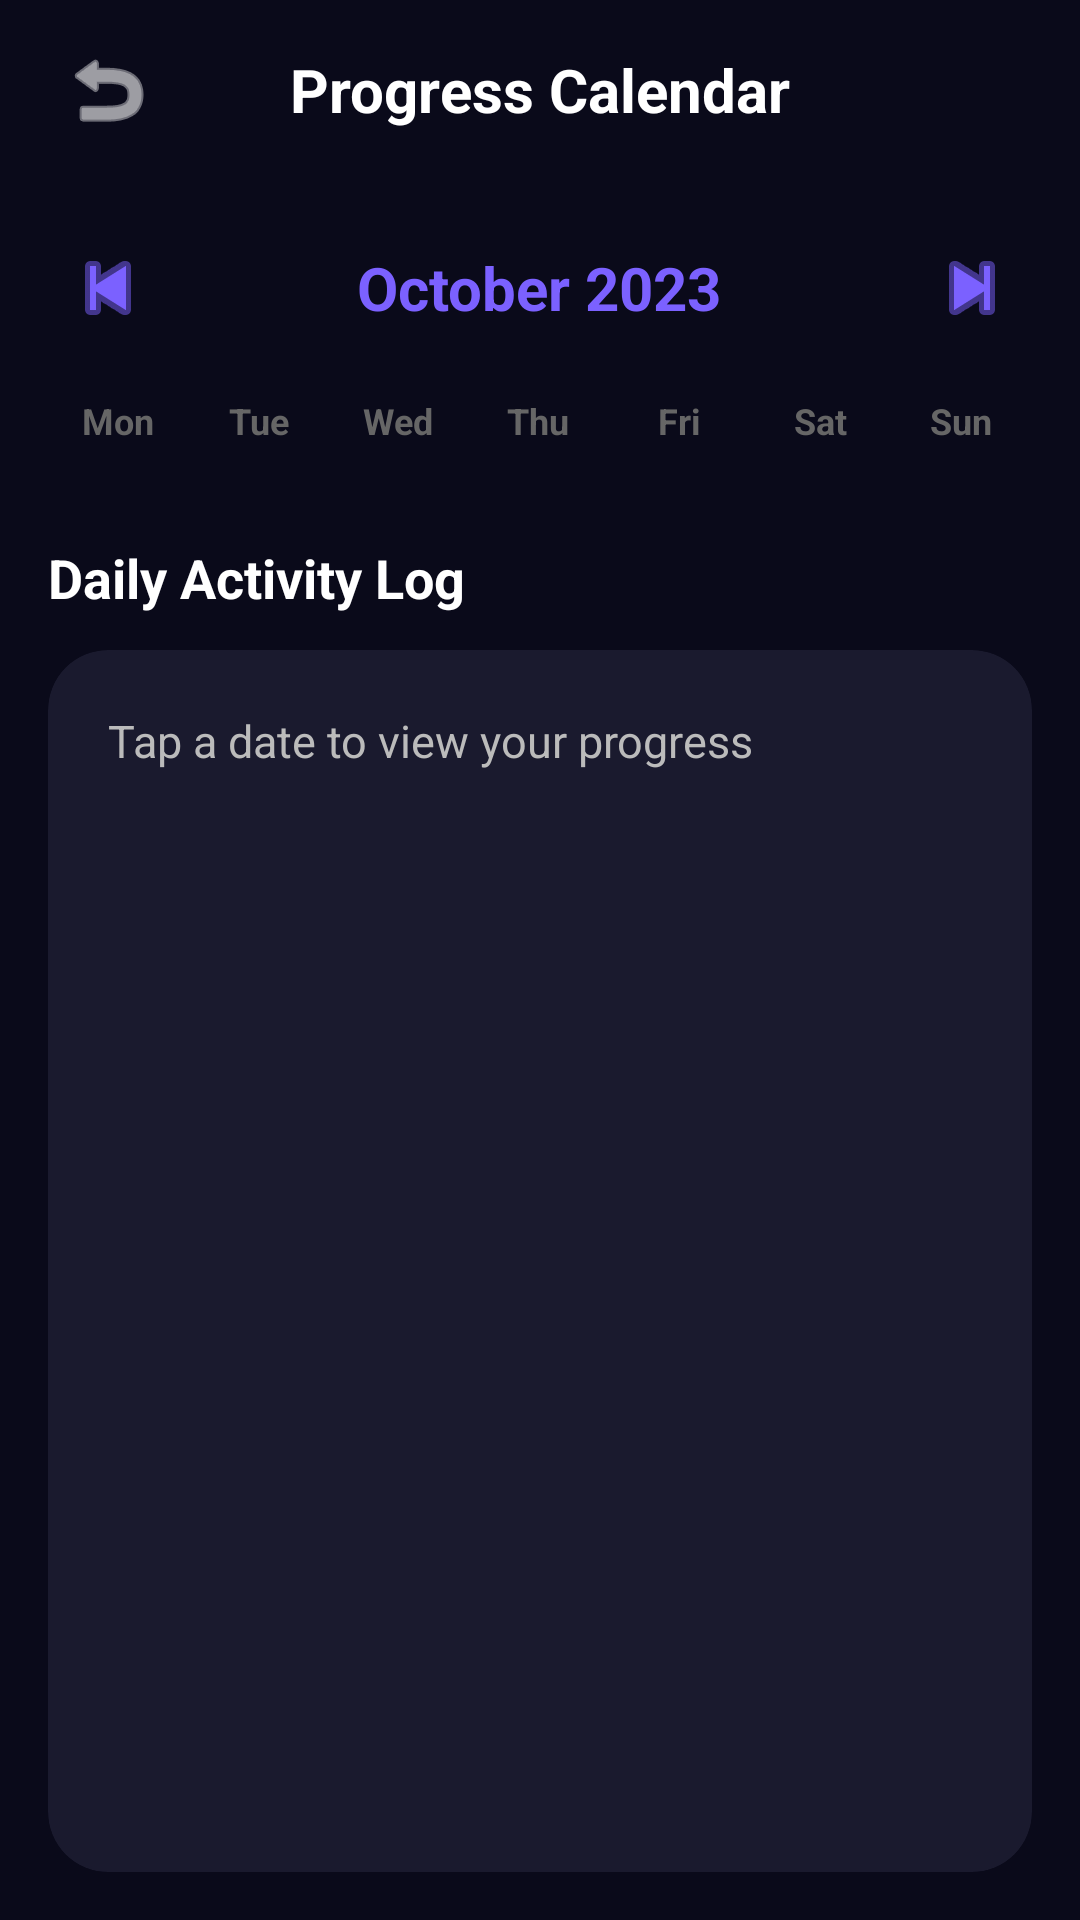

Named icons in this screenshot (1080 × 1920) and their centers, point (x, y):
next: point (972, 288)
previous: point (108, 288)
revert: point (109, 90)
